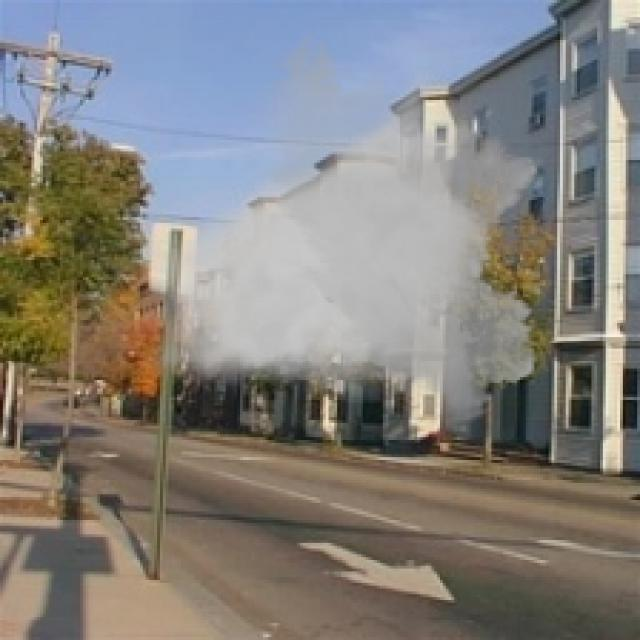smoke: (137, 32, 549, 434)
